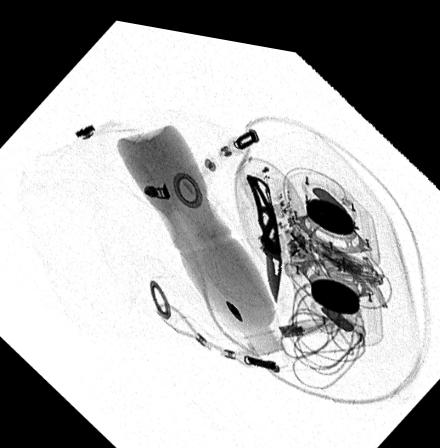Knife: (243, 164, 283, 296)
